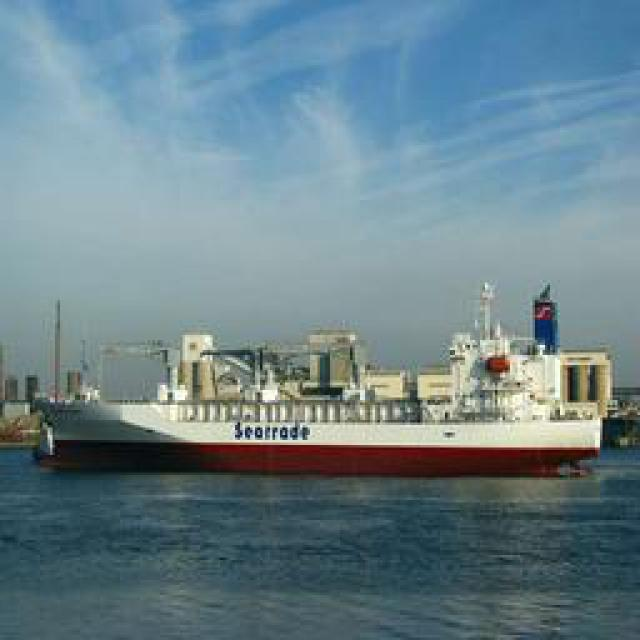Ship: (21, 285, 609, 475)
